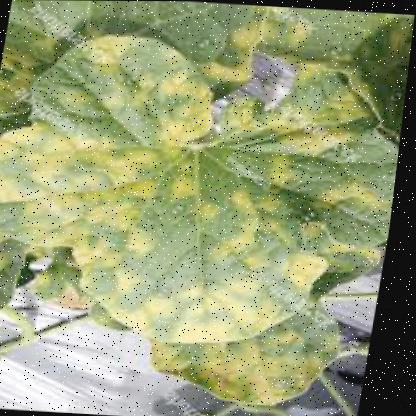DownyMildew: (163, 107, 380, 256), (119, 198, 341, 343), (0, 130, 185, 237)
